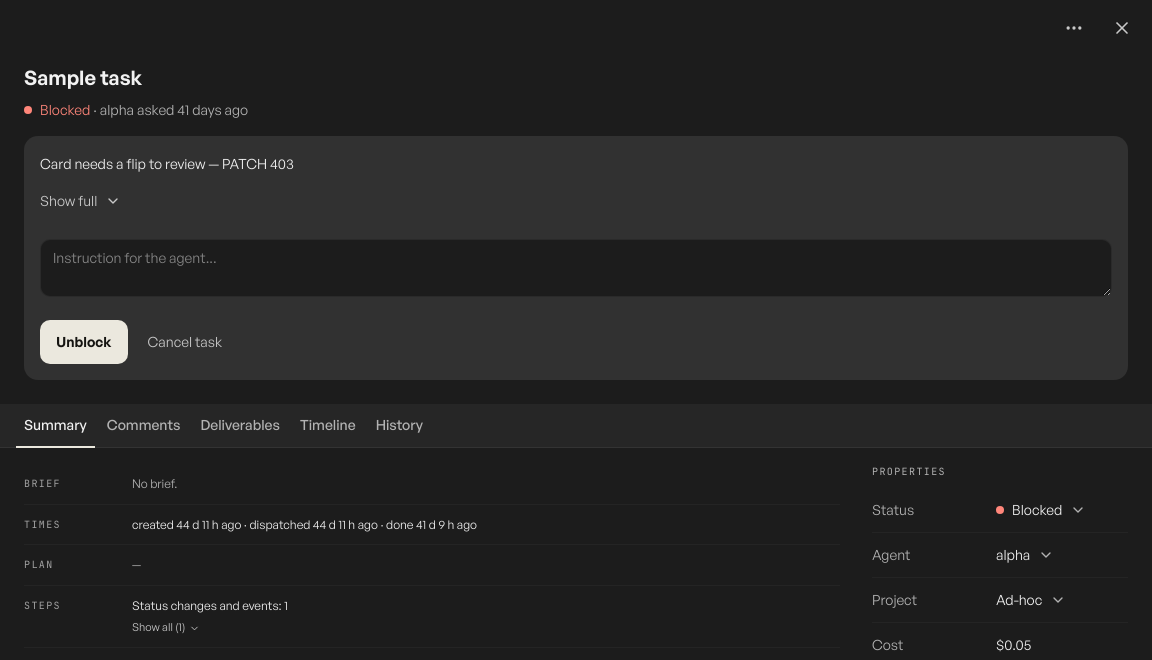
Scenario: NEEDS YOU stays compact with an embedded approval › shows the question once, clamped, and hides the long report until Show full
Expected: the text "Card needs a flip to review — PATCH 403" is shown once, [40,154,294,172]
Expected: the text "alpha is blocked at" is not shown
Click the button "Show full".
click(81, 201)  # box [28,179,133,223]
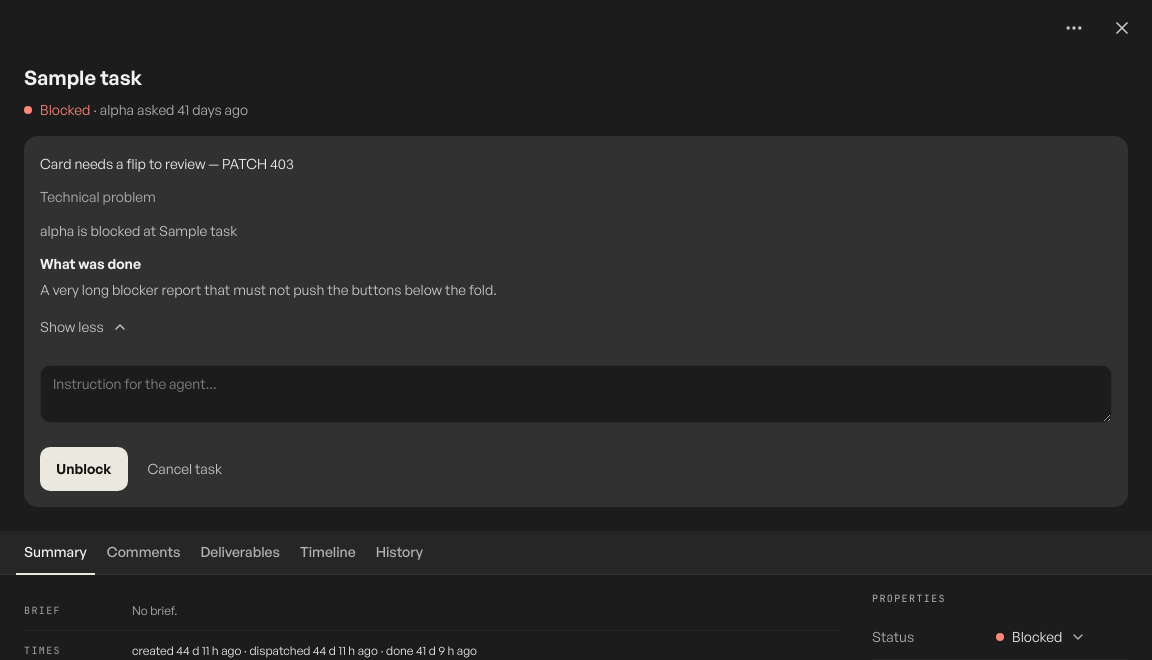
Result: the text "very long blocker report" is shown at [40,281,497,298]
Result: the text "alpha is blocked at Sample task" is shown once at [40,222,237,239]
